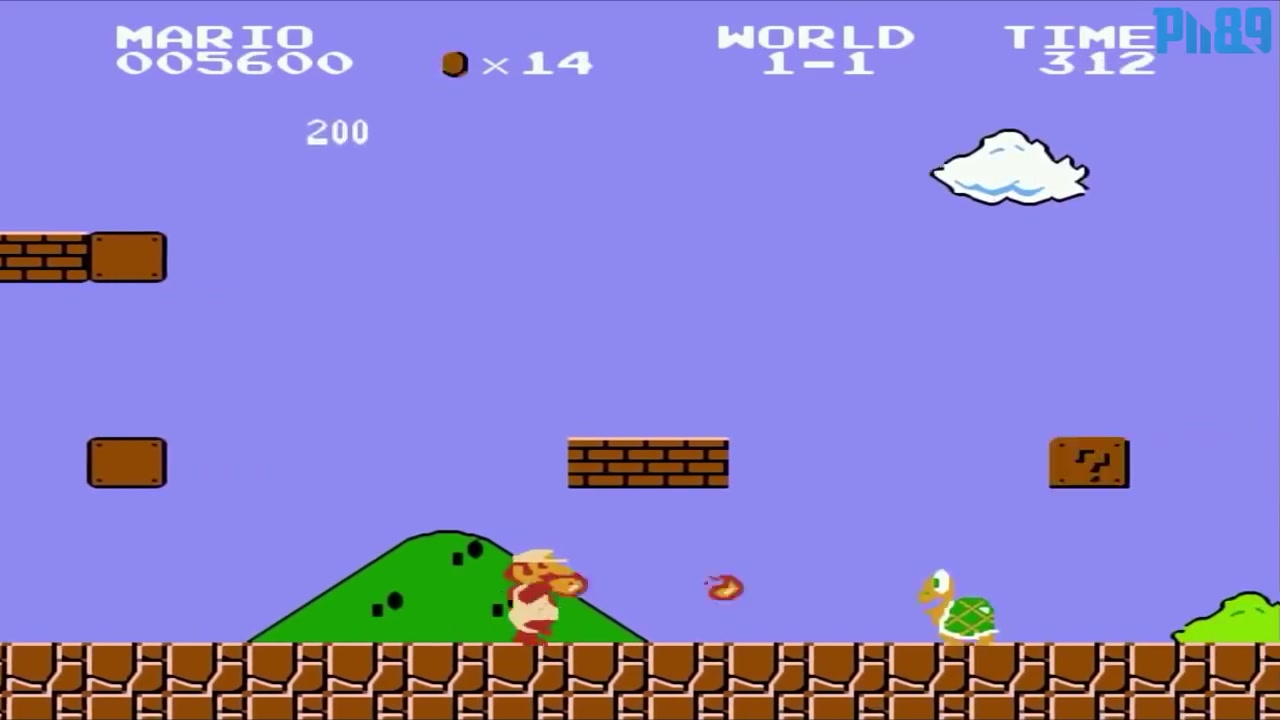mario: (497, 545, 591, 643)
